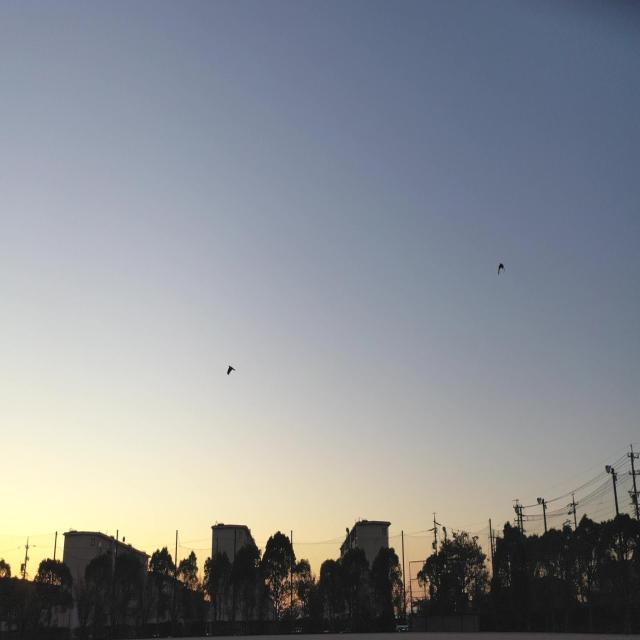Birds: (493, 260, 509, 274), (226, 362, 236, 374)
